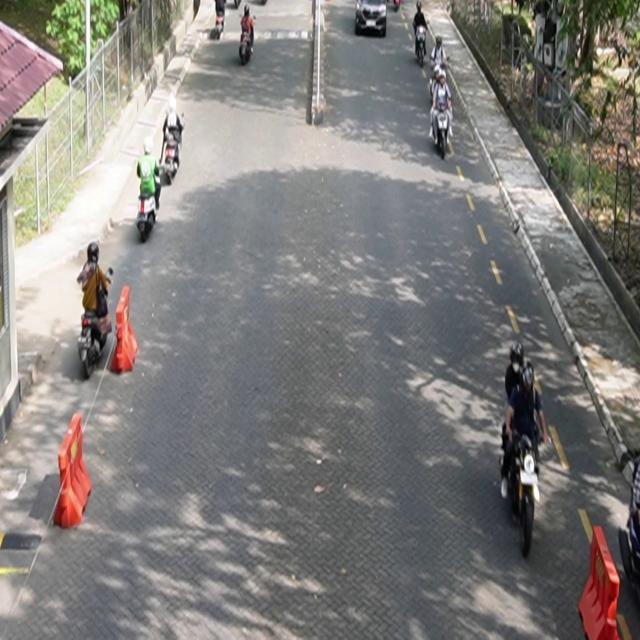car: (356, 1, 388, 38)
